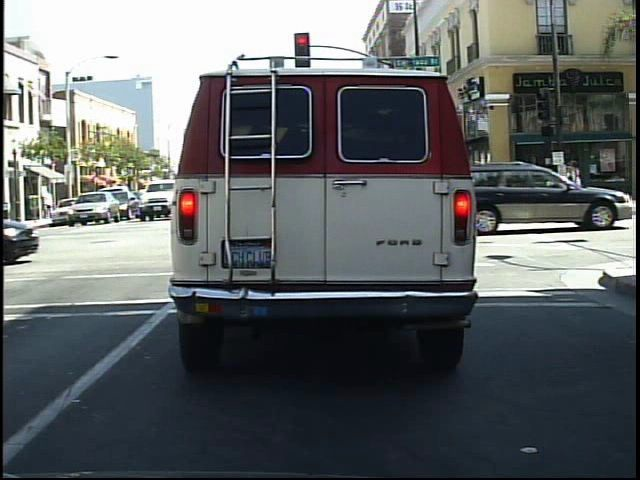person: (551, 146, 574, 209), (537, 154, 561, 212), (514, 157, 538, 212), (569, 157, 590, 208)
